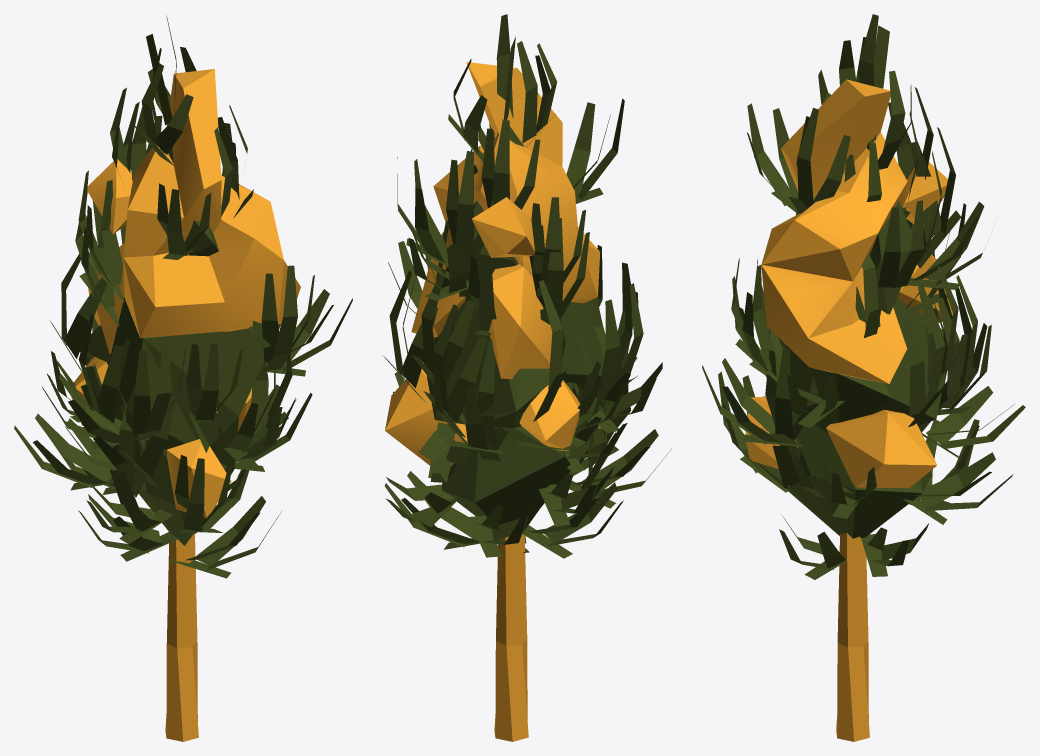
File: SM_Tree_Sequoia_Sapling_A_Snow.fbx
3 renders of one model, left to right at view 1: azimuth 30°, elevation 25°; view 2: azimuth 150°, elevation 25°; view 3: azimuth 270°, elevation 25°, orthographic. The views are drawn at different scales.
Visible parts, largest first — view 1: tree-sequoia-sapling-a-snow; view 2: tree-sequoia-sapling-a-snow; view 3: tree-sequoia-sapling-a-snow.
Part boxes in pixels (<box>): tree-sequoia-sapling-a-snow: <box>14,14,352,741</box>; tree-sequoia-sapling-a-snow: <box>382,14,671,741</box>; tree-sequoia-sapling-a-snow: <box>702,14,1025,741</box>.
Bounding box in the file's own units: 0.8853 × 2.14 × 0.8757.
